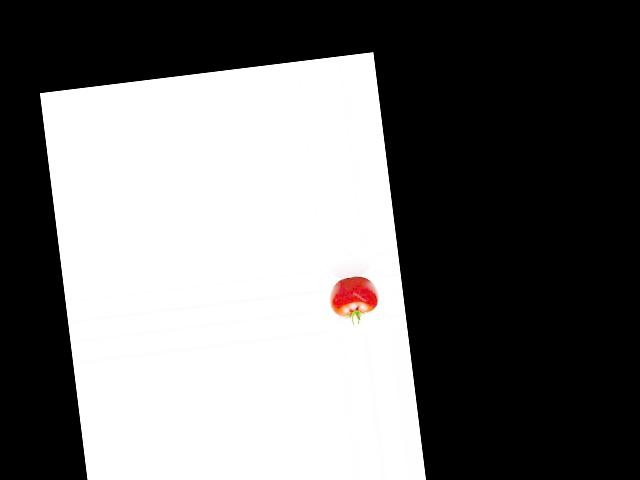tomato: (327, 274, 381, 318)
